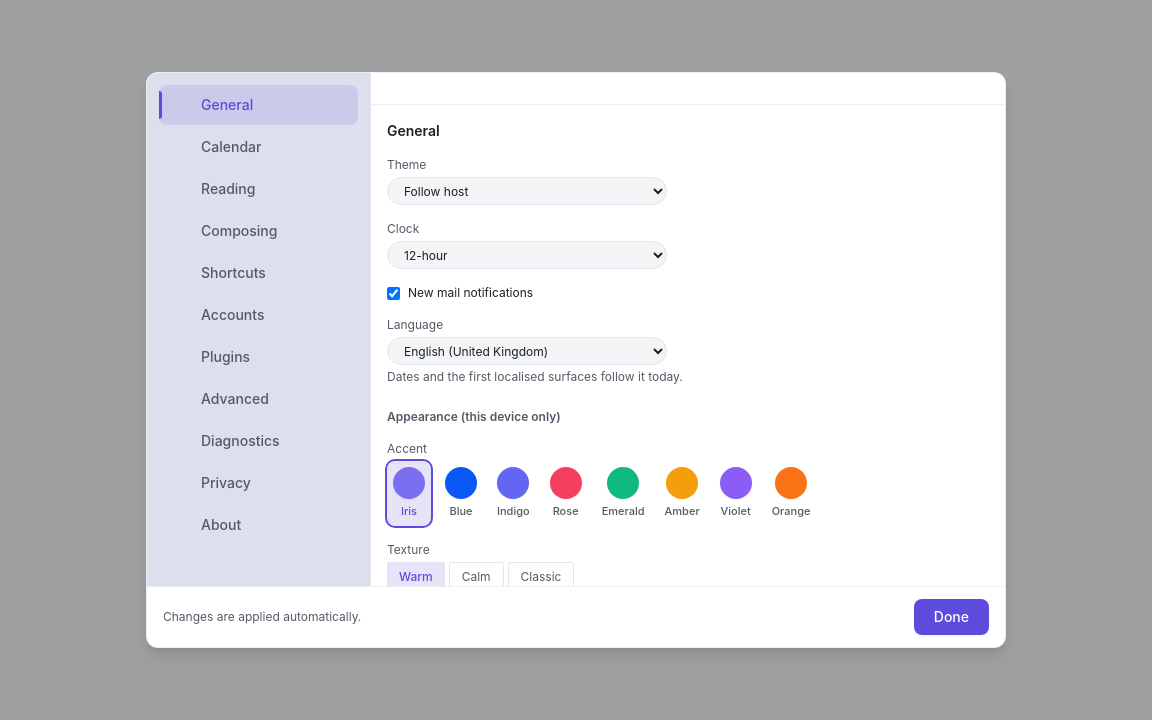
the settings screen › lists the wired shortcuts on the Shortcuts page
Click the button "Shortcuts" at (258, 273), box x1=159 y1=253 x2=358 y2=293
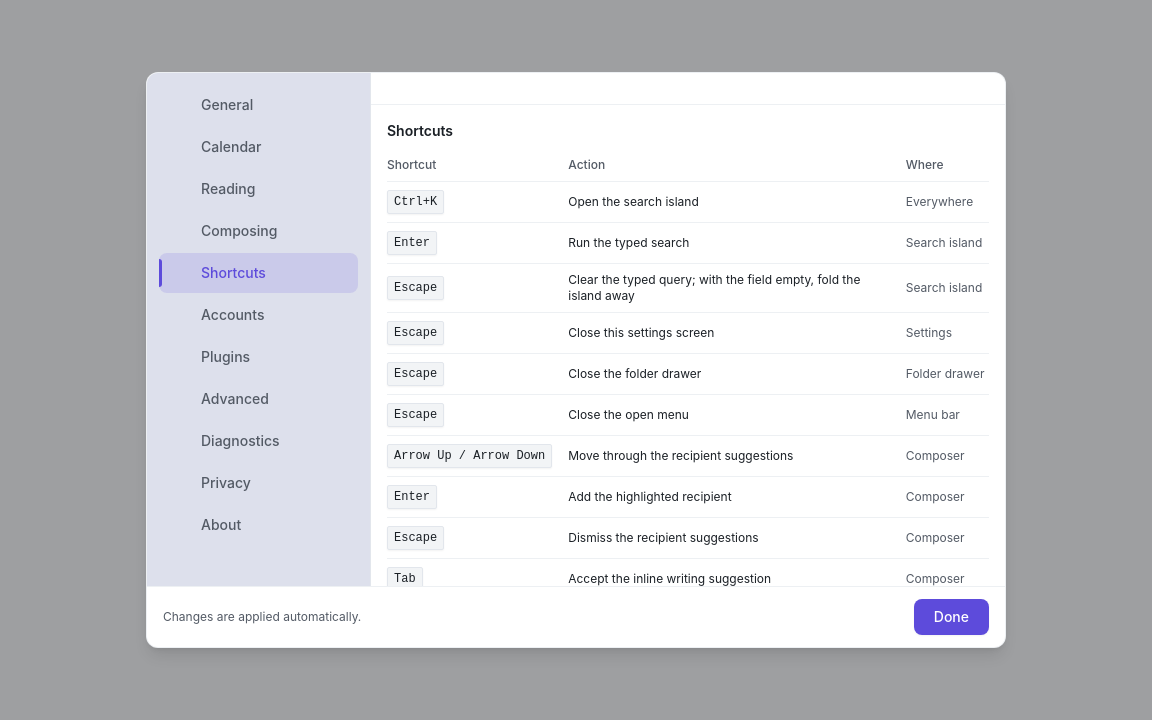
Check: the element named "Settings detail" shows "Ctrl+K", box x1=394 y1=195 x2=437 y2=209
Check: the element named "Settings detail" shows "Open the search island", box x1=568 y1=194 x2=699 y2=209
